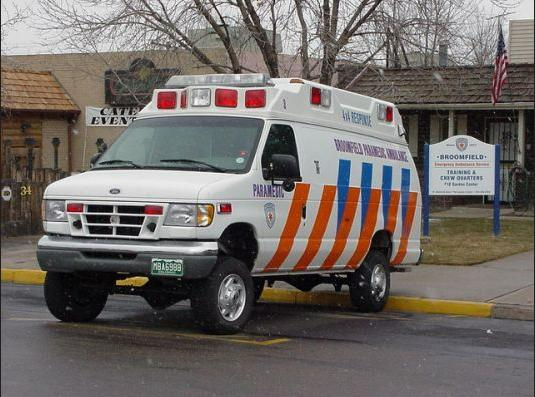ambulance_off: (37, 75, 424, 334)
